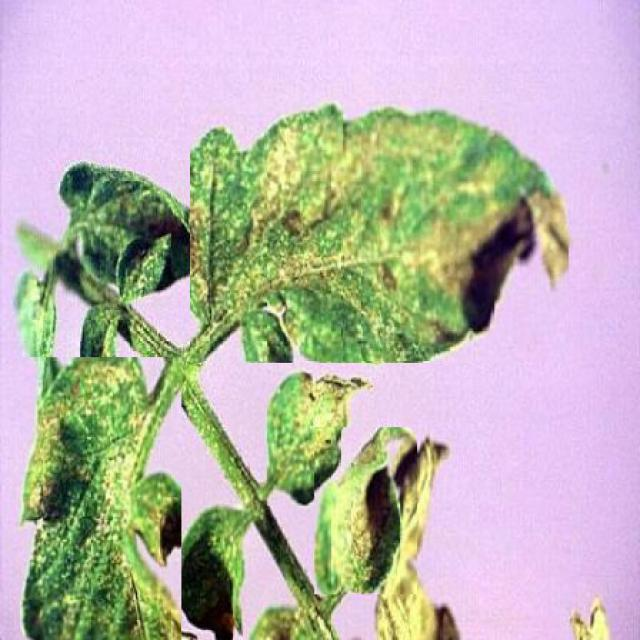Spider Mites: (190, 98, 569, 363), (18, 357, 182, 640), (314, 427, 417, 594), (268, 366, 371, 506)
